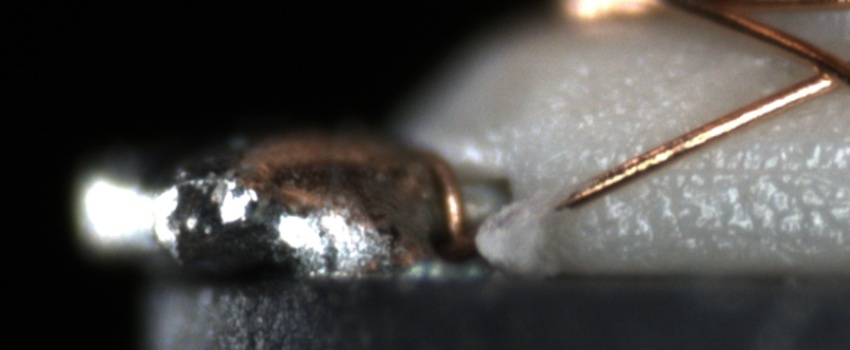CL: (793, 44, 849, 98)
DL: (689, 140, 850, 201), (661, 208, 850, 258)
TE: (429, 152, 467, 242)
